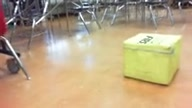cube: (122, 32, 183, 86)
